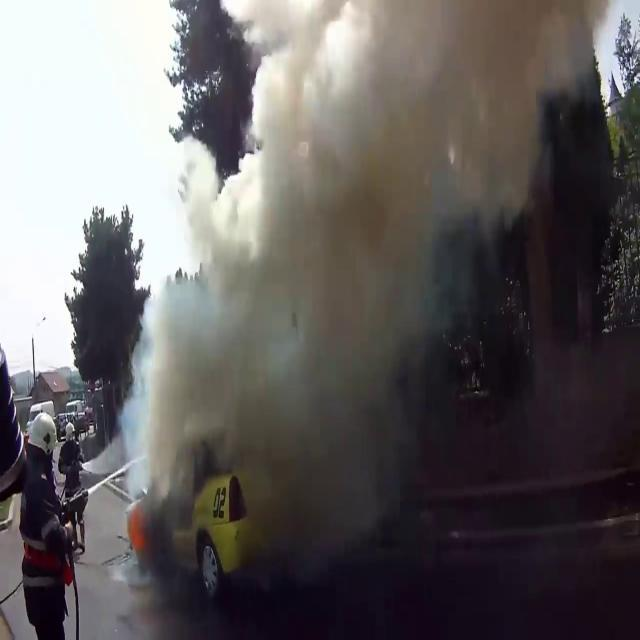Smoke: (103, 0, 597, 572)
